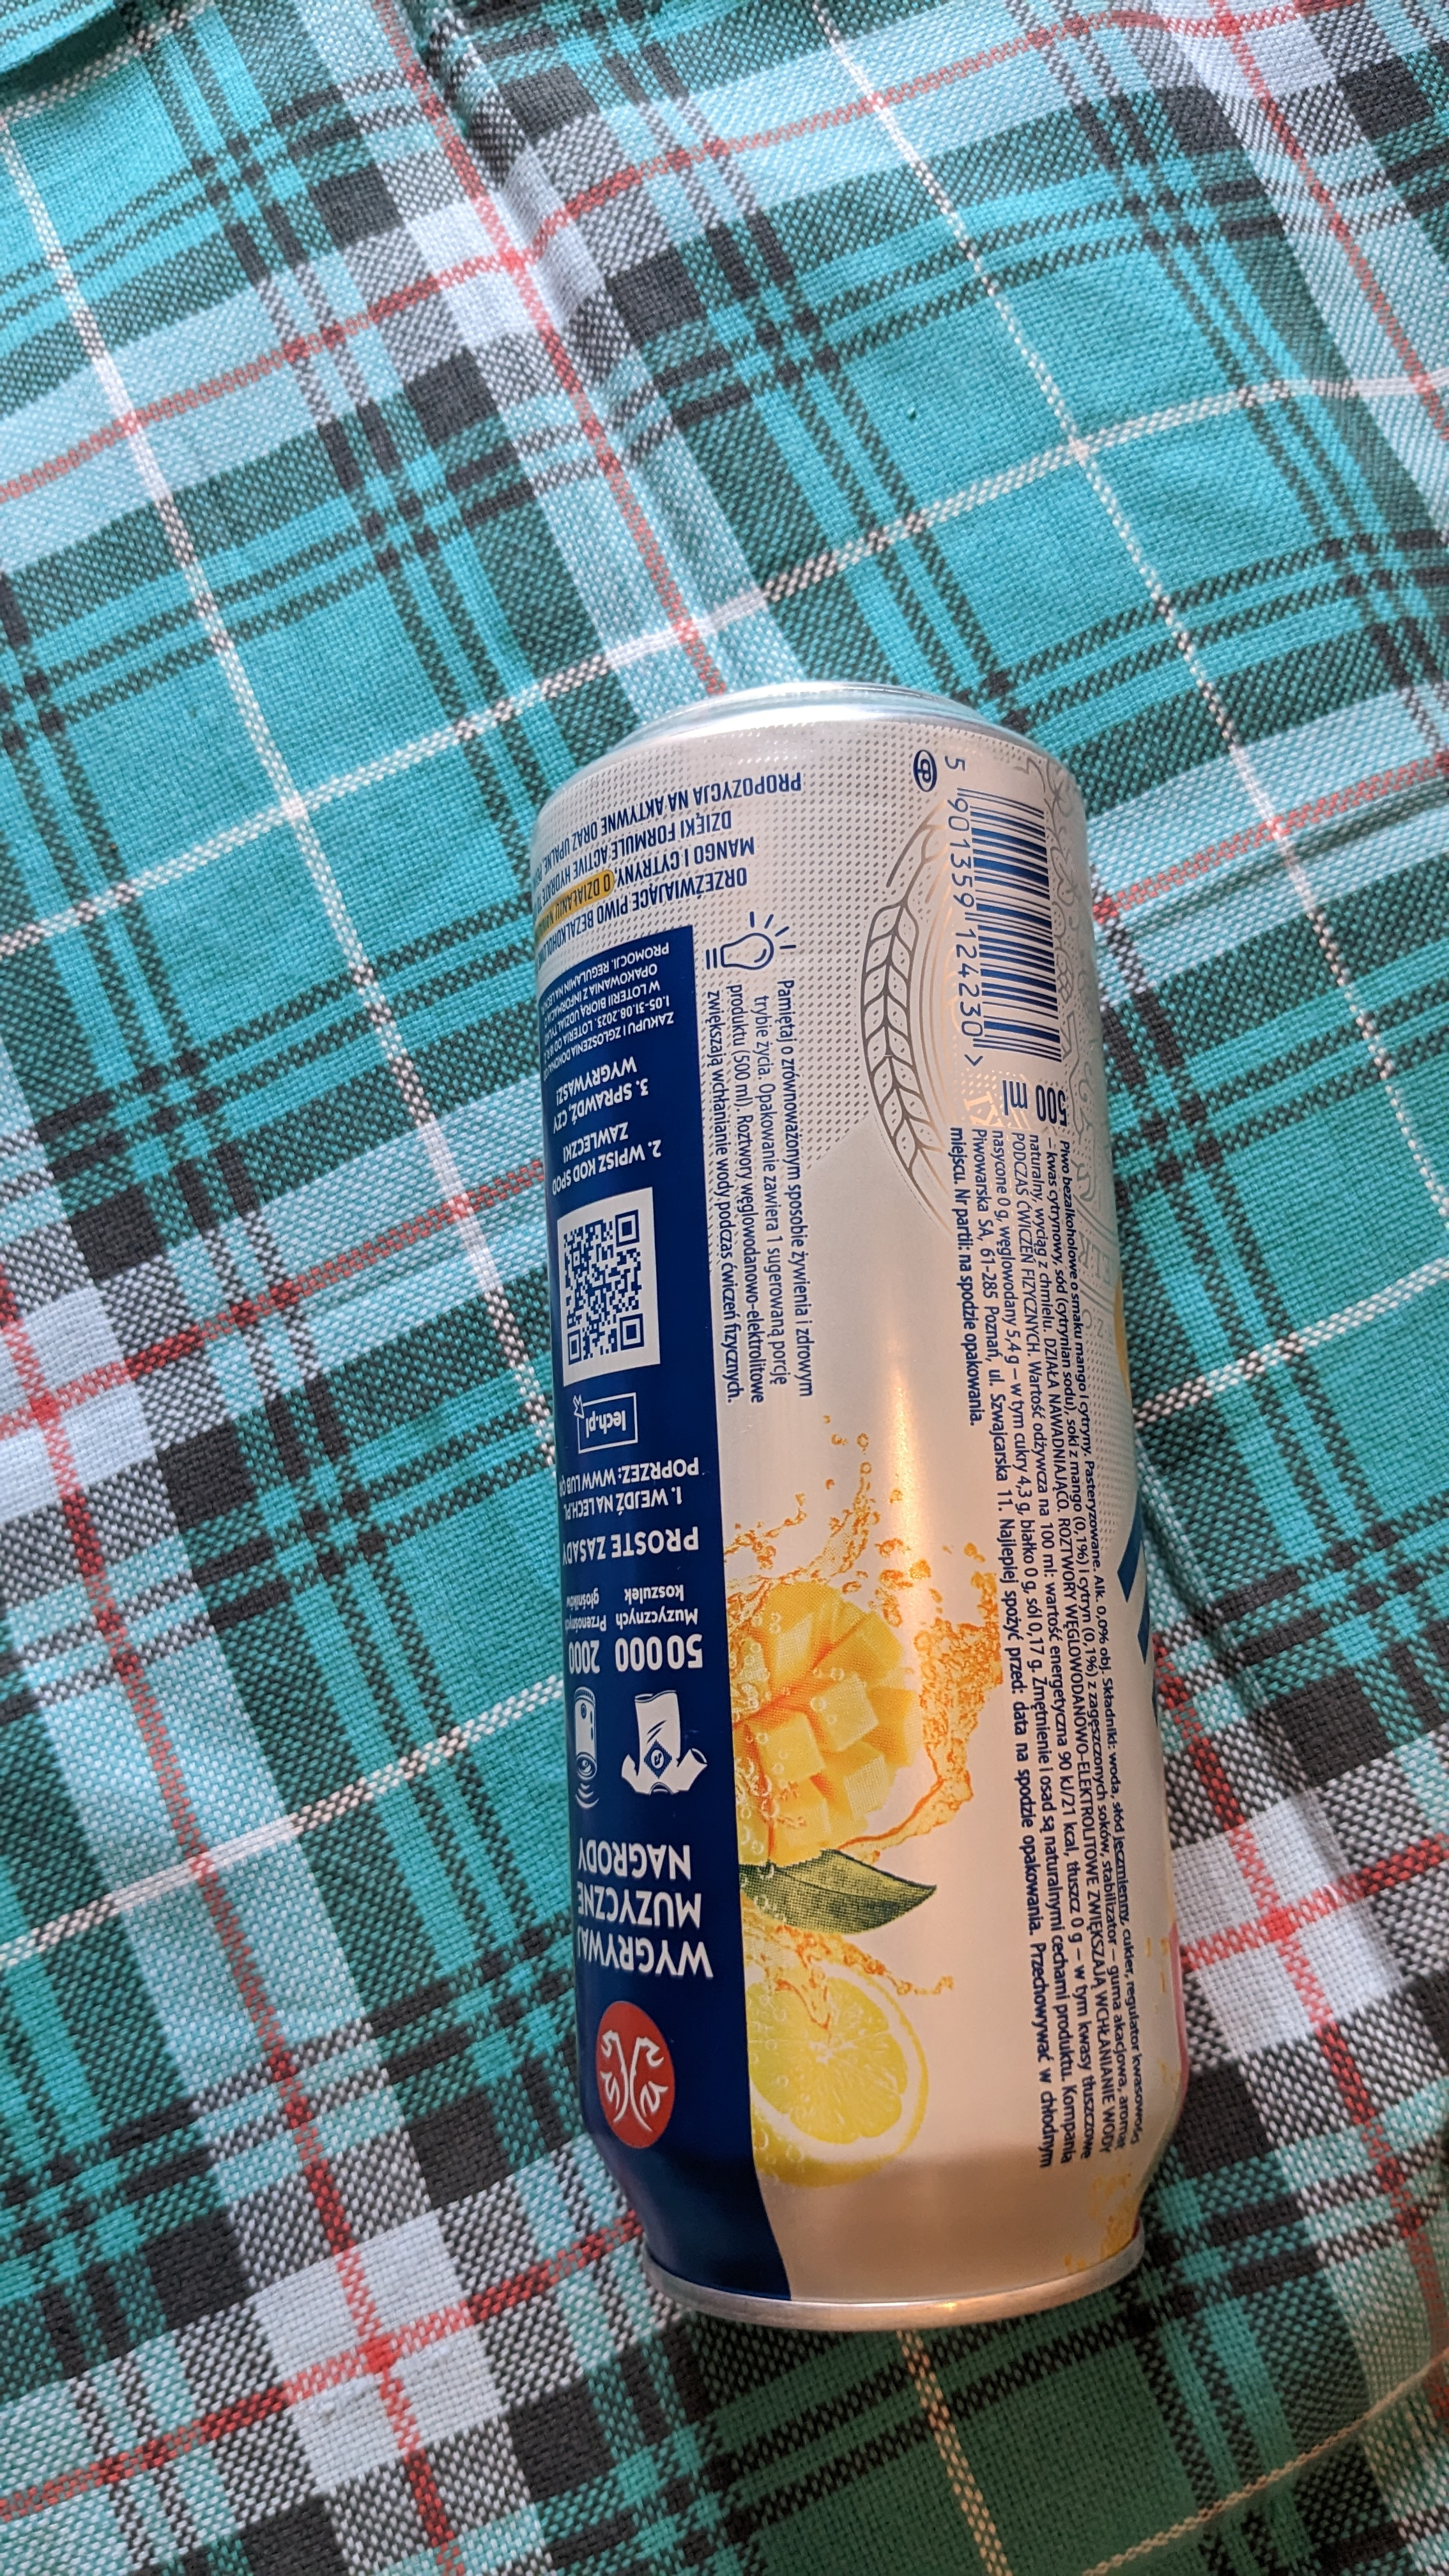lech-active: (488, 646, 1215, 2371)
